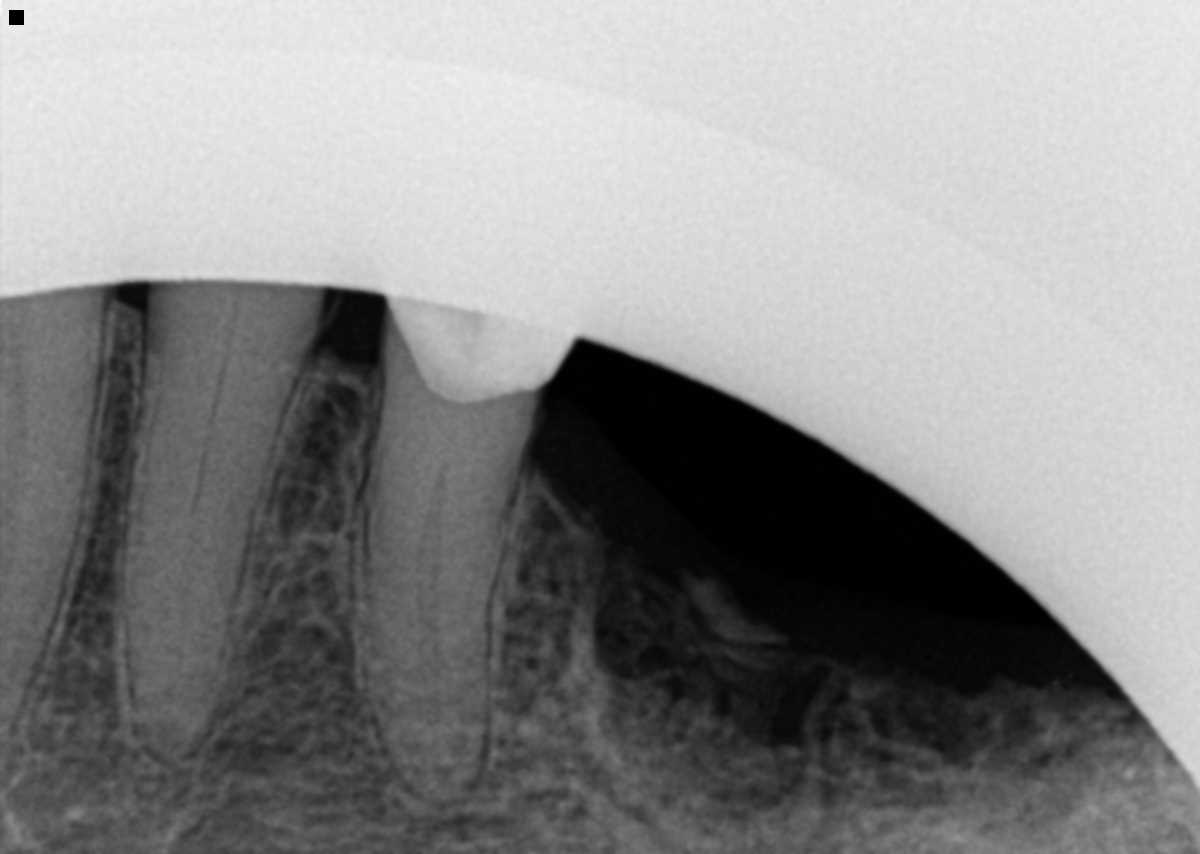Main Canal: (421, 428, 459, 731), (190, 354, 229, 554)
Main Root: (120, 322, 316, 761), (357, 380, 536, 805), (0, 303, 103, 748)
